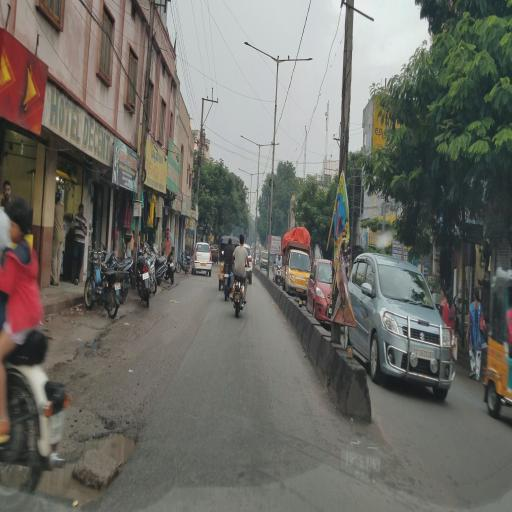street_light_0: (236, 31, 276, 73), (274, 40, 316, 76), (256, 132, 285, 154), (232, 130, 259, 150), (235, 160, 254, 179), (251, 163, 268, 179)
